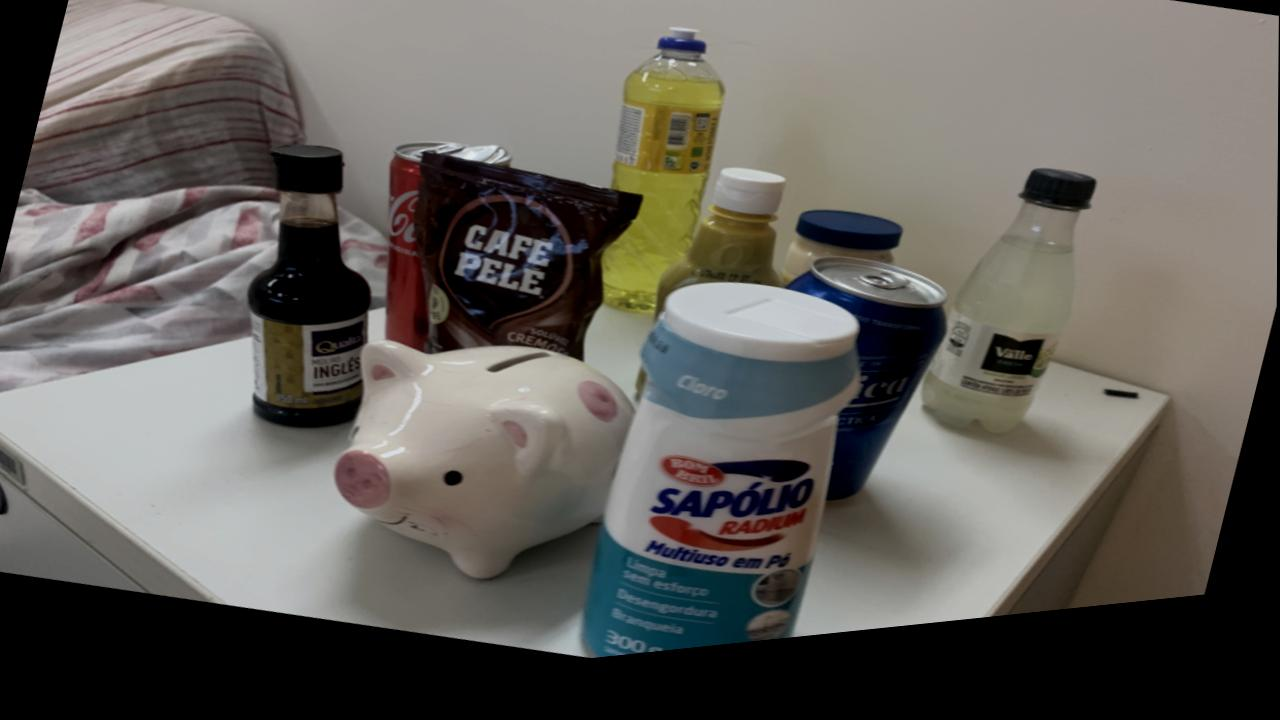Cleaner-Cleanup_Items: (583, 299, 860, 671)
Coffee-Pantry_Items: (415, 162, 643, 373)
Coke-Drinks: (386, 151, 511, 360)
Detergent-Cleanup_Items: (602, 43, 726, 327)
English_Sauce-Pantry_Items: (248, 150, 372, 434)
Mayonnaise-Pantry_Items: (783, 227, 903, 300)
Mustard-Pantry_Items: (655, 184, 786, 332)
Pig_Safe-Miscellaneous: (334, 349, 635, 590)
Soda-Drinks: (923, 191, 1097, 455)
Tonic-Drinks: (788, 275, 948, 518)
